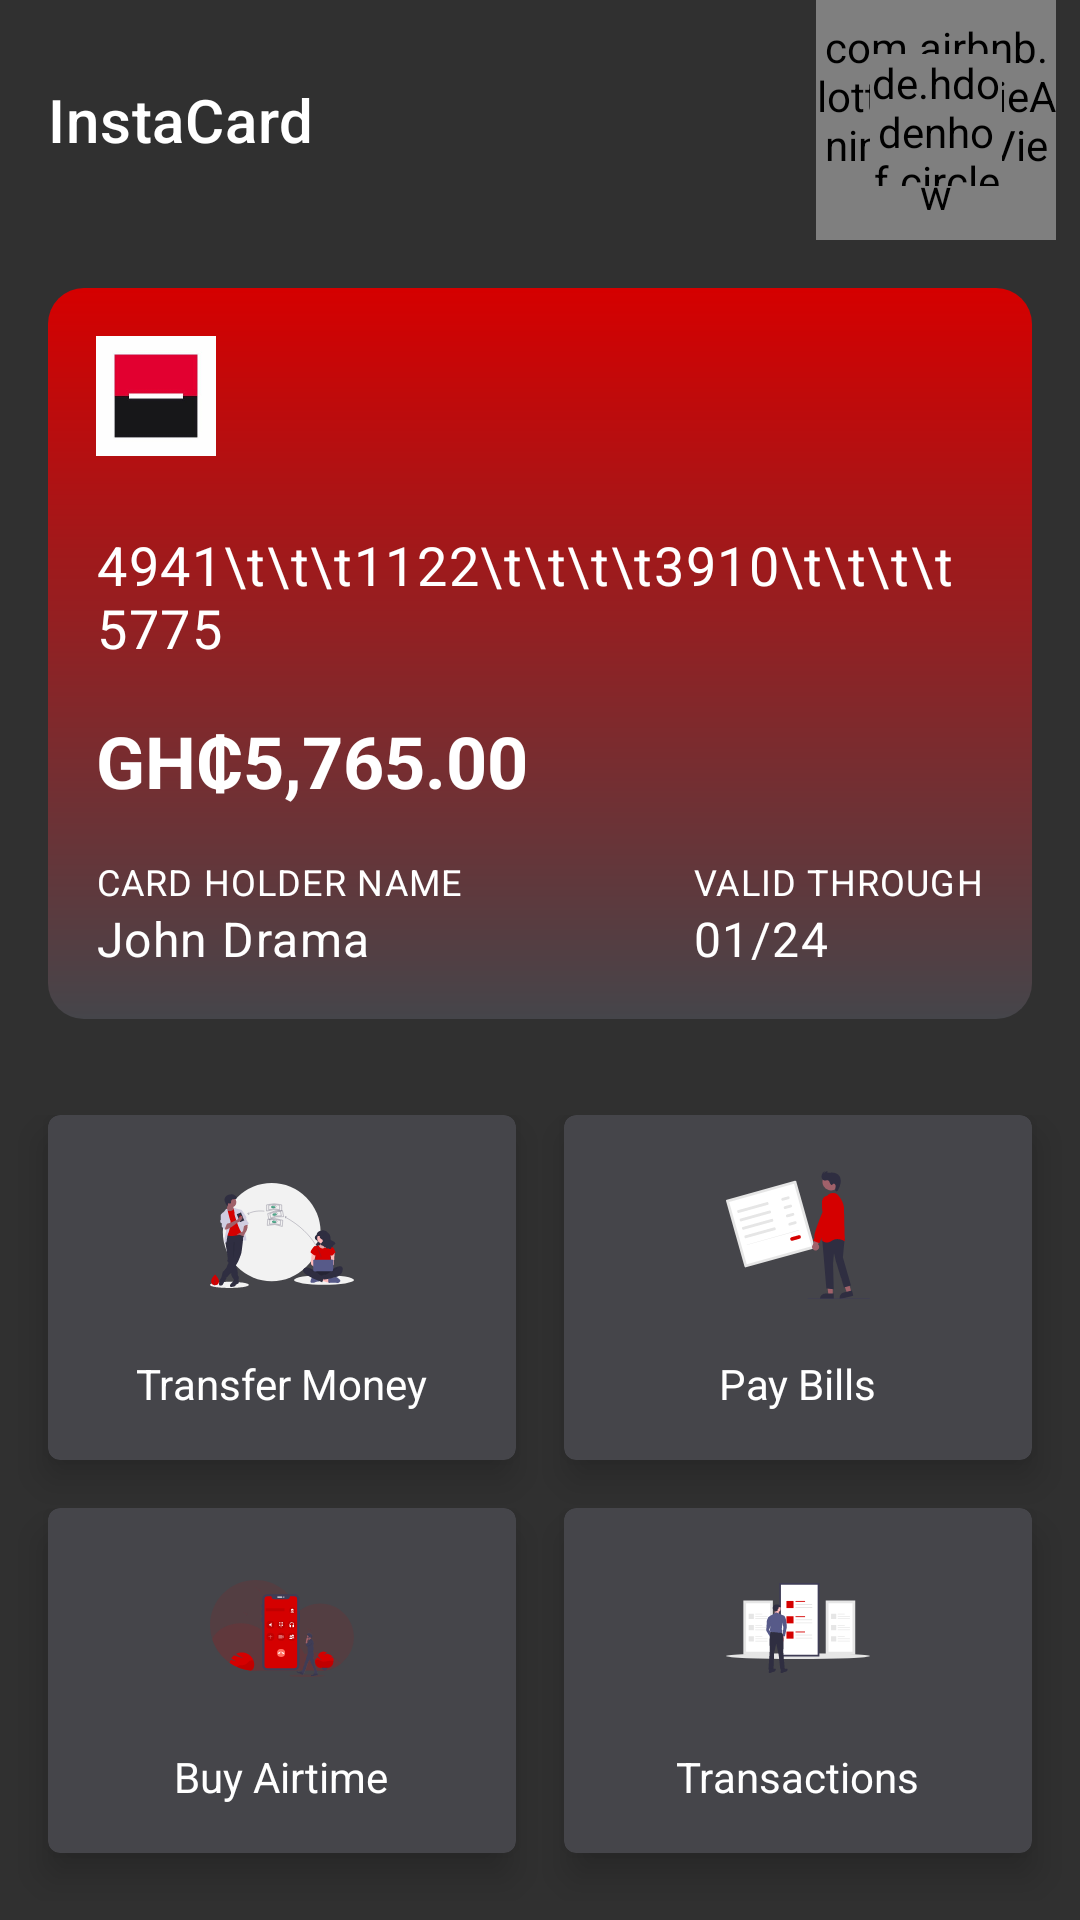

Icons on this 1080 × 1920 Android screen, each with its box as (x1,y1,x2,y2):
biils: (726,1180,851,1294)
histroy: (726,1584,870,1659)
tranfer money: (210,1183,354,1288)
